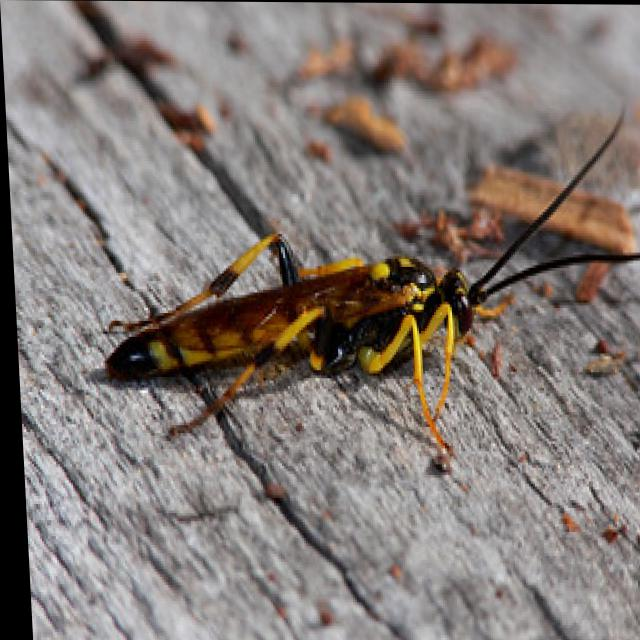Guepe: (80, 99, 639, 476)
